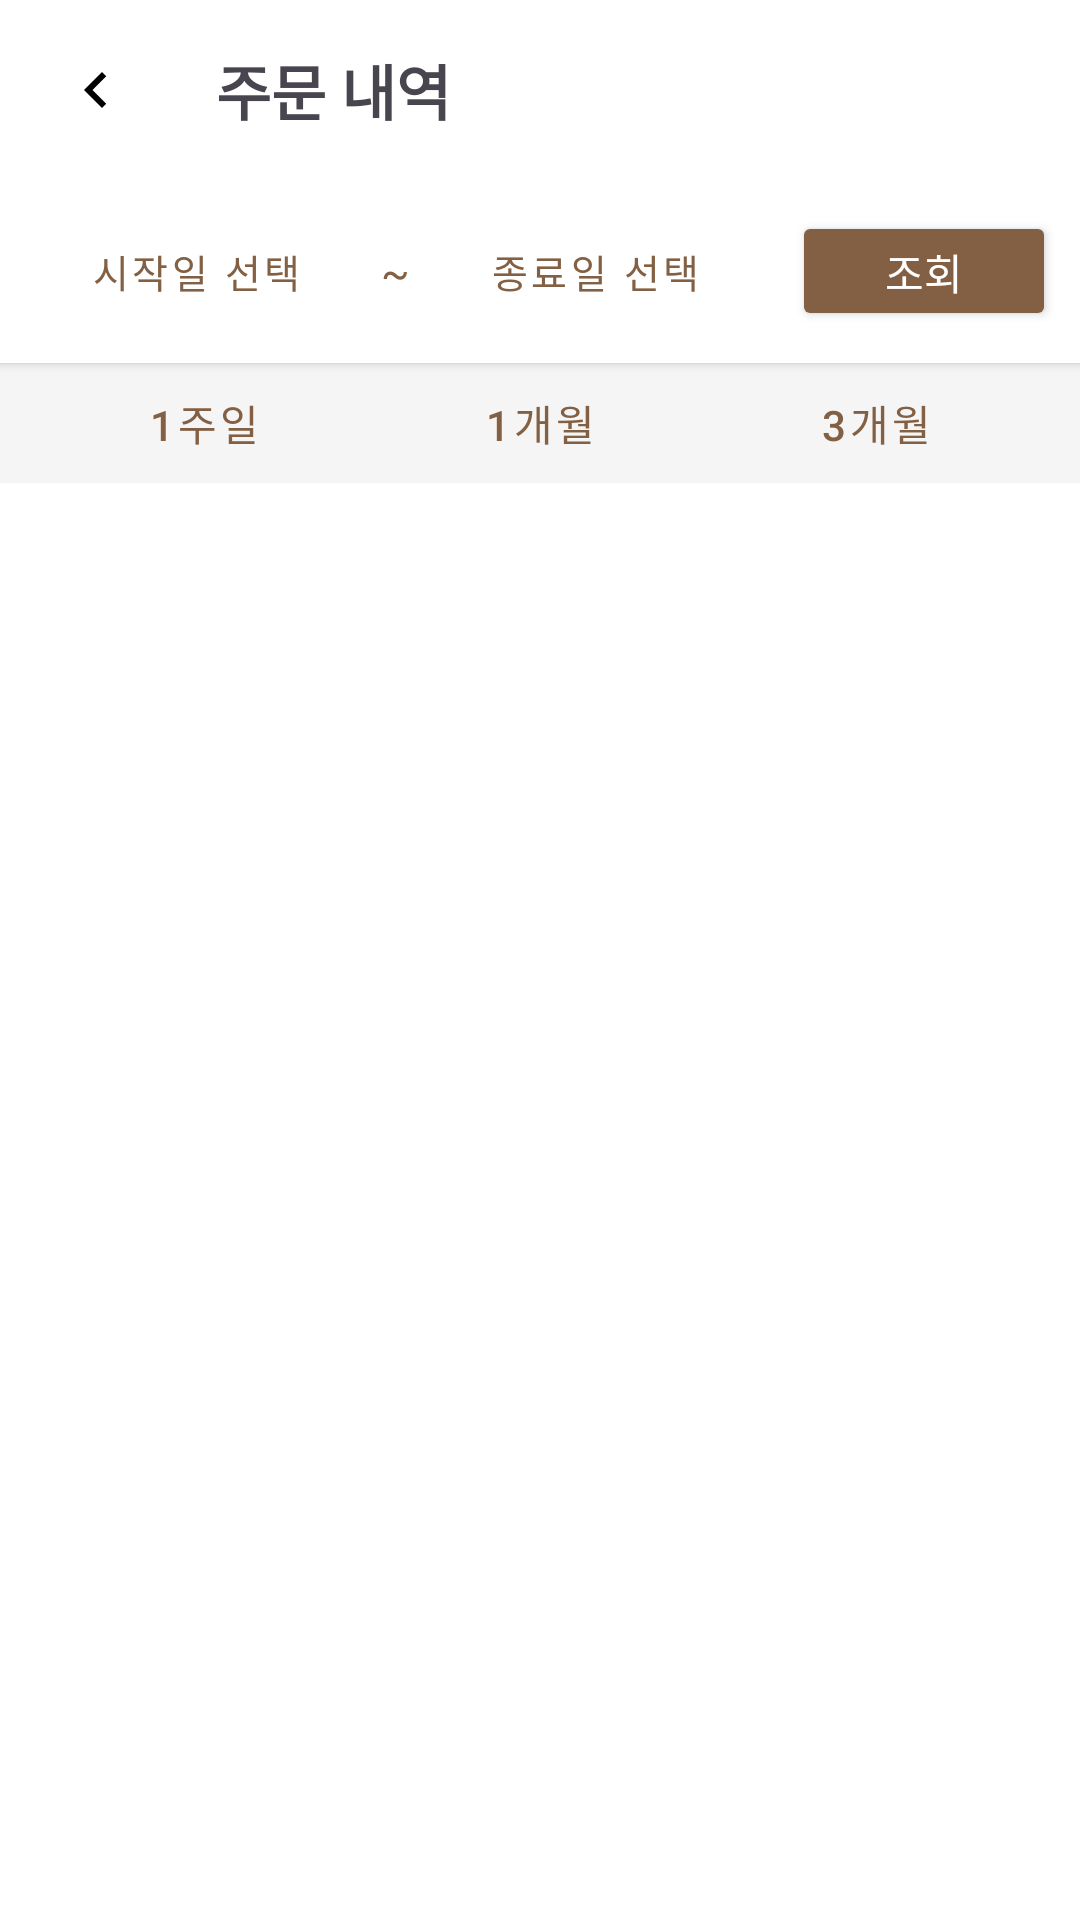

Icons on this 1080w x 1920h Android screen, each with the point to tap as (x,y):
back: (95,90)
